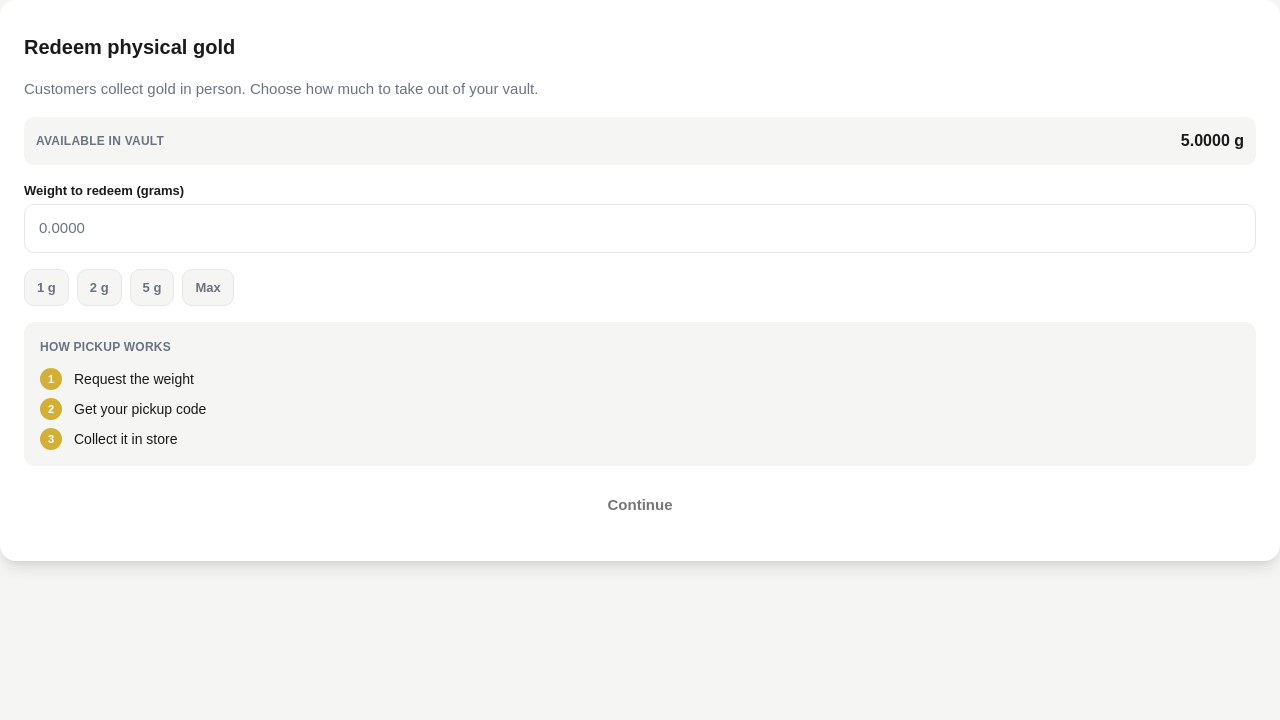
Scenario: RedeemFlow › opens a confirmation modal summarising the redemption
Type "2" into the field labelled "Weight to redeem (grams)" at (640, 228), box [37, 205, 1243, 252]
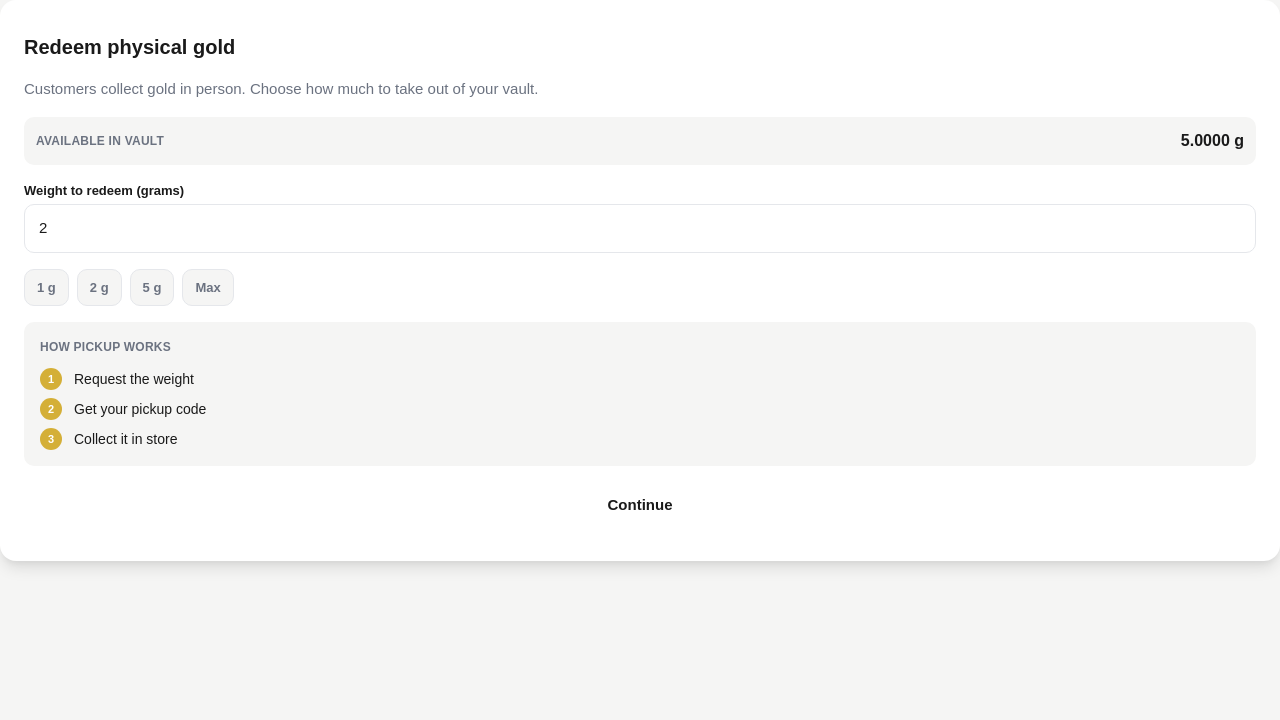
Check: the button "Continue" is enabled
Click the button "Continue" at (640, 505), box [24, 482, 1256, 528]
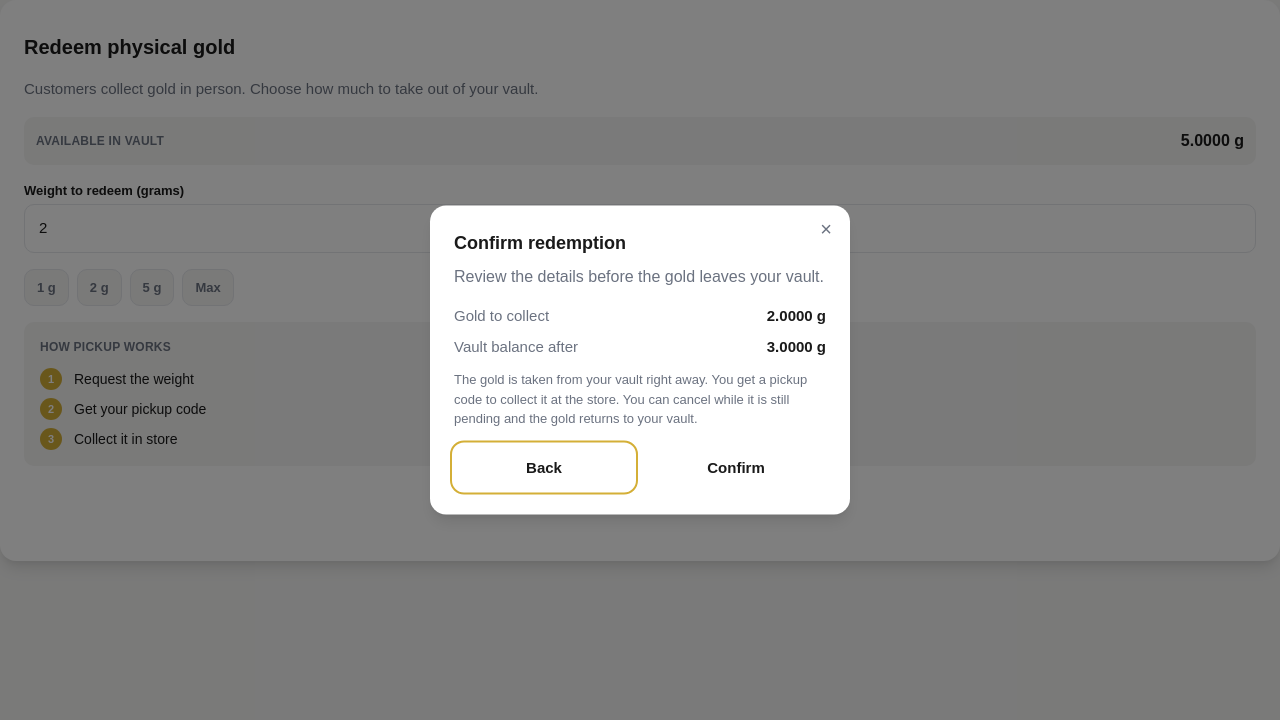
Check: the dialog shows "Confirm redemption", box [454, 232, 626, 252]
Check: the dialog shows "2.0000 g", box [767, 306, 826, 324]
Check: the dialog shows "3.0000 g", box [767, 337, 826, 354]
